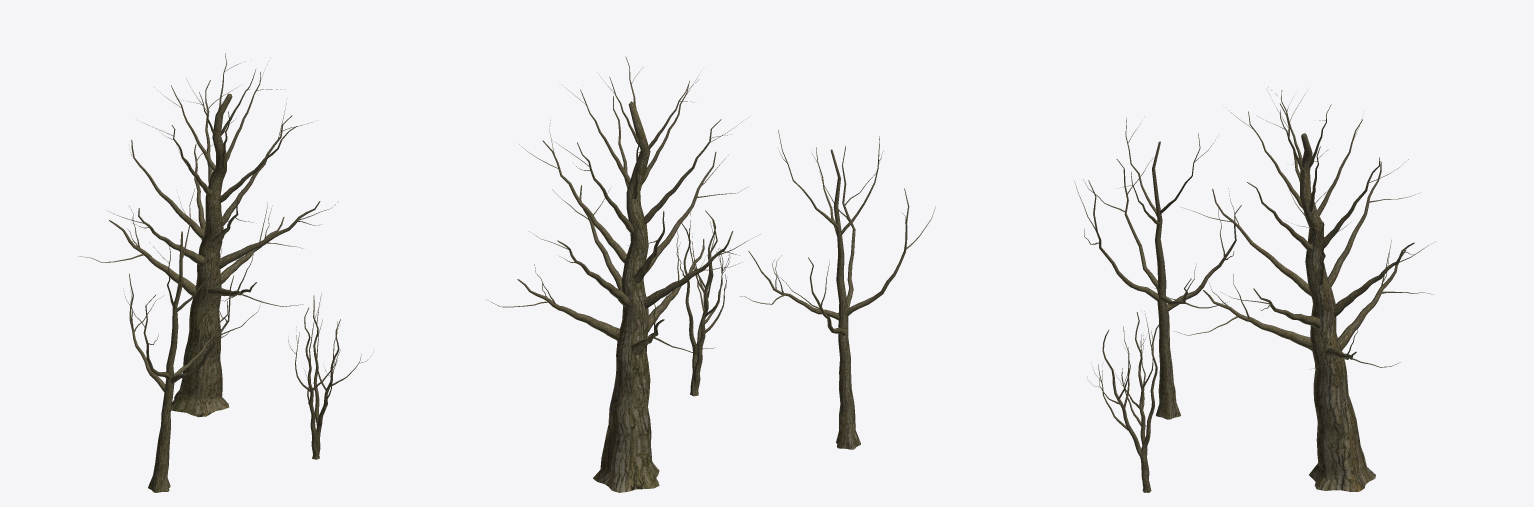
3 views of the same model, side by side, from view 1: azimuth 30°, elevation 25°; view 2: azimuth 150°, elevation 25°; view 3: azimuth 270°, elevation 25° (orthographic). The views are drawn at different scales.
Visible parts, largest first — view 1: treelarge, Treemedium, Treesmall; view 2: treelarge, Treemedium, Treesmall; view 3: treelarge, Treemedium, Treesmall.
Part boxes in pixels (x1,y1,x2,y2): treelarge: (78,53,338,417); Treemedium: (123,189,261,492); Treesmall: (288,292,374,459); treelarge: (486,56,760,492); Treemedium: (740,130,935,449); Treesmall: (681,210,730,396); treelarge: (1174,87,1435,491); Treemedium: (1074,118,1241,419); Treesmall: (1087,311,1162,492).
Size of the model in its own units: 752 by 779 by 793.
2 materials, 2 textured.
